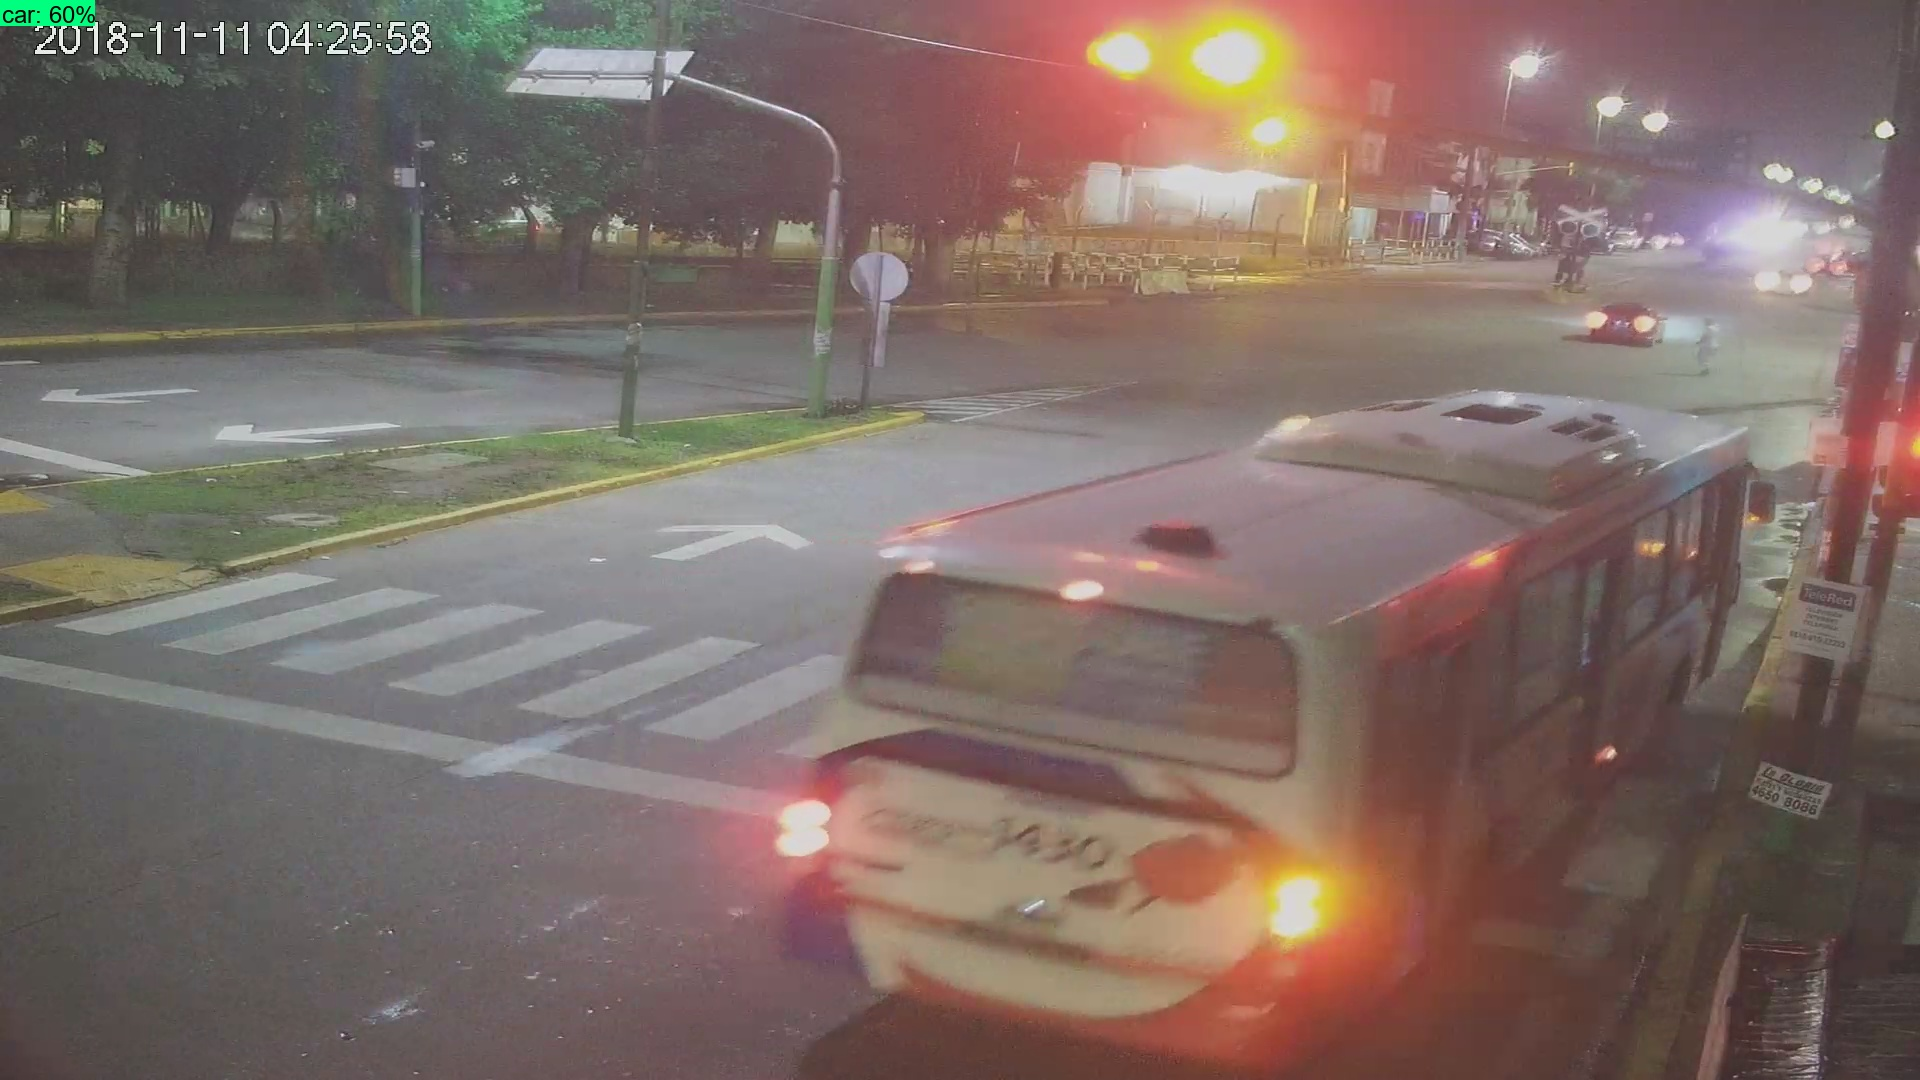bus: (736, 375, 1782, 1036)
car: (1575, 293, 1677, 349)
